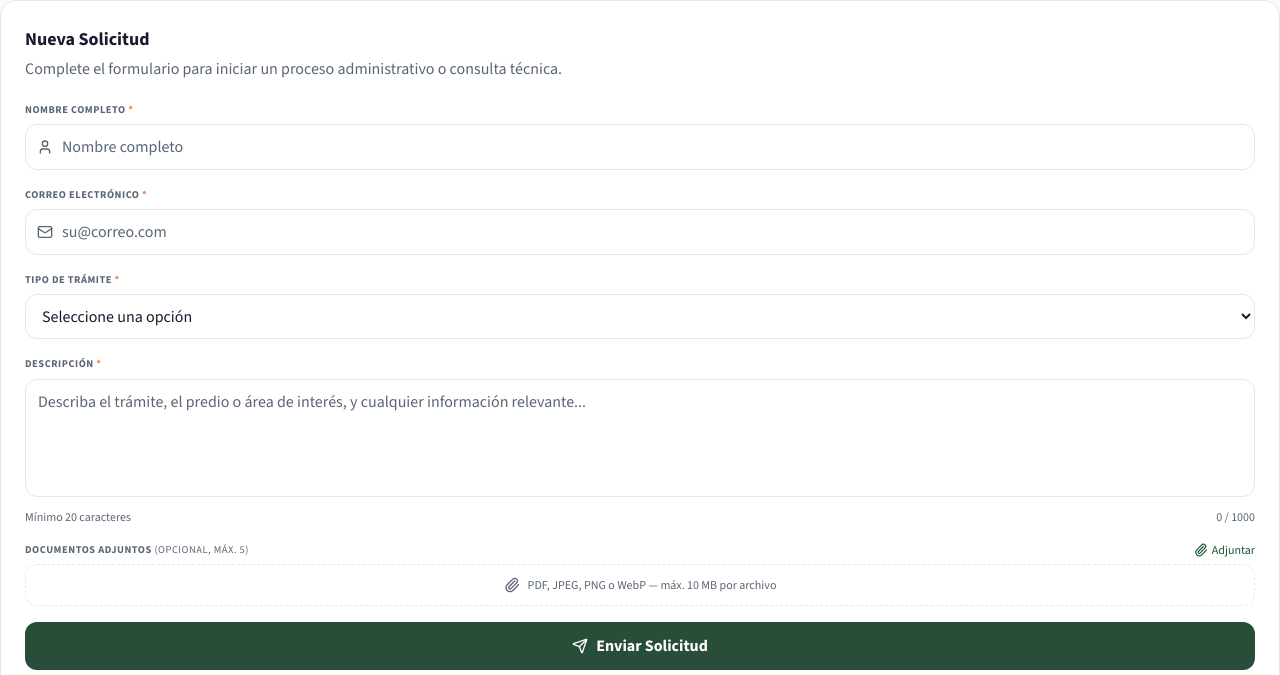
Scenario: NuevaSolicitudForm — envío › un 429 muestra el mensaje de límite diario, no el genérico
Step 1. Type "Ana Restrepo" into the field labelled "Nombre Completo *" → (640, 147), box [25, 124, 1255, 170]
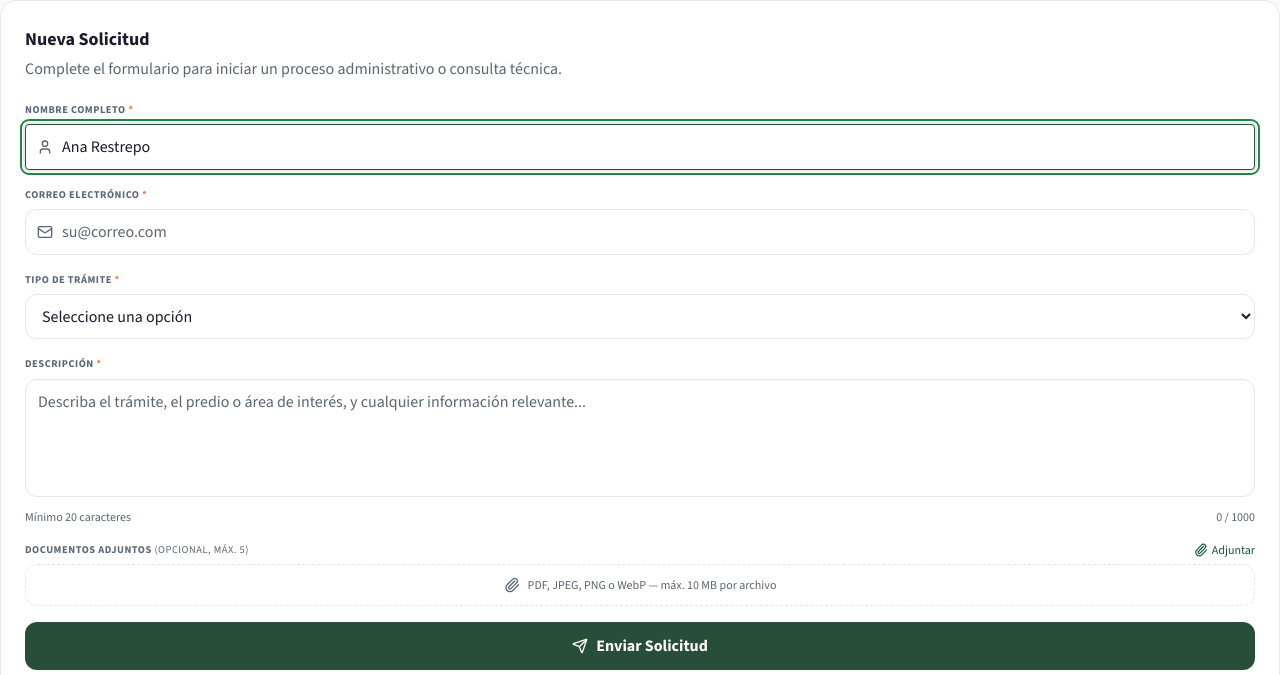
Step 2. Type "ana@iiap.gov.co" into the field labelled "Correo Electrónico *" → (640, 232), box [25, 209, 1255, 255]
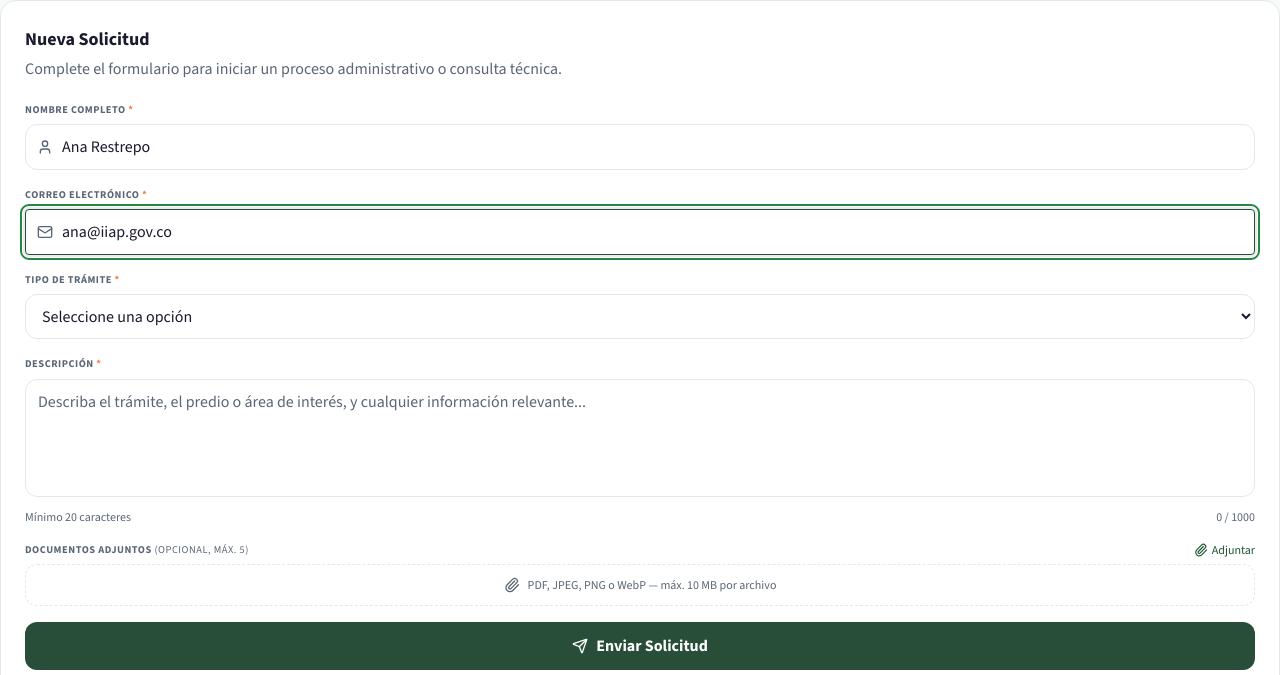
Step 3. Select "Certificado de Uso de Suelo" in the dropdown labelled "Tipo de Trámite *" → (640, 317), box [25, 294, 1255, 340]
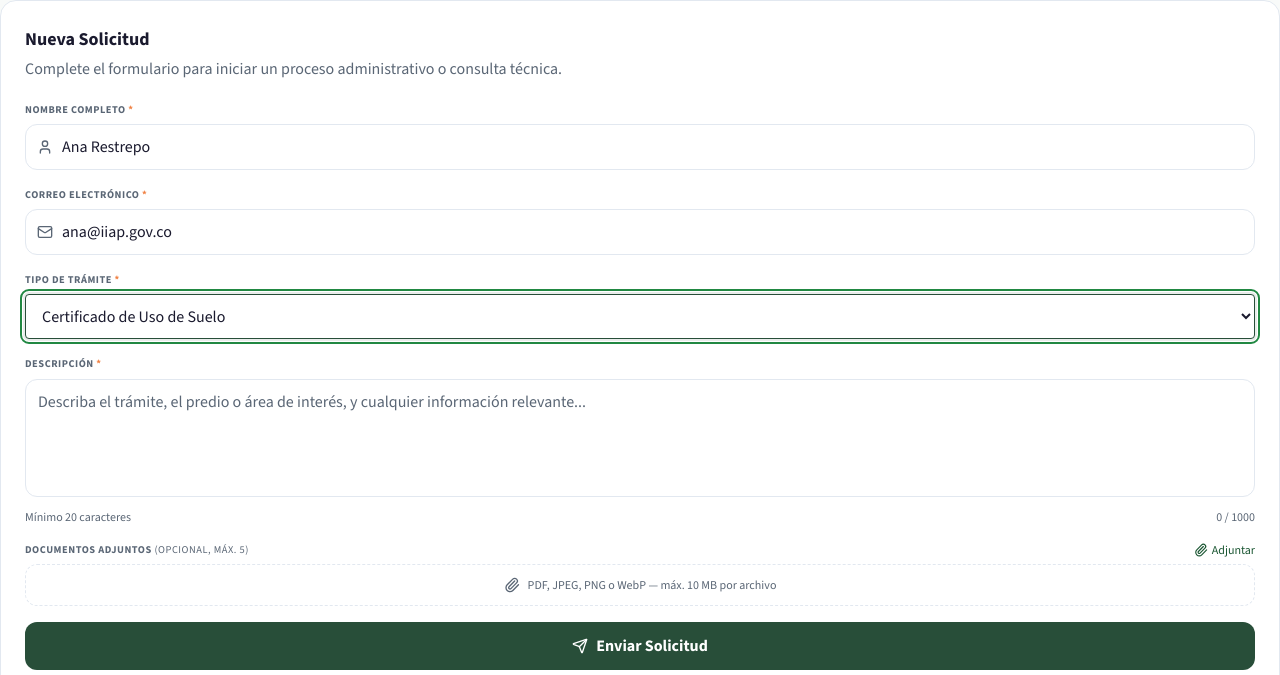
Step 4. Type "Solicito certificado de uso de suelo para el predio ubicado en la vereda X." into the text box labelled "Descripción *" → (640, 438), box [25, 379, 1255, 497]
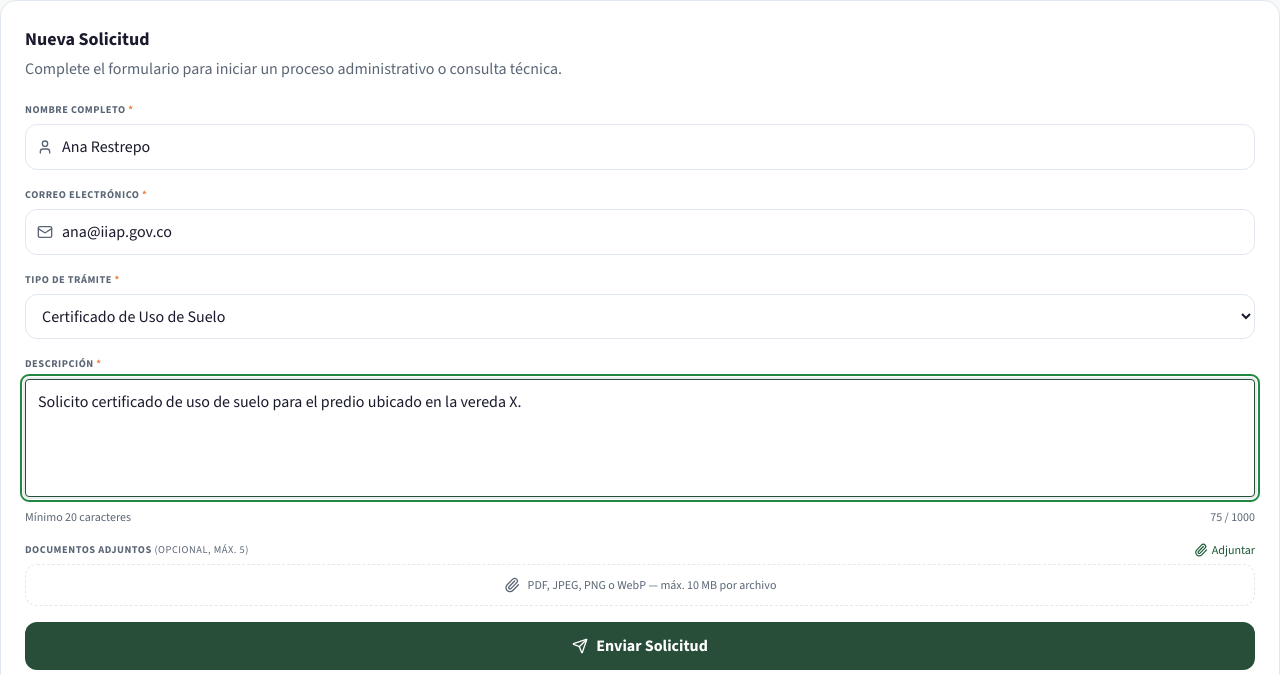
Step 5. Click the button "Enviar Solicitud" → (640, 646), box [25, 622, 1255, 670]
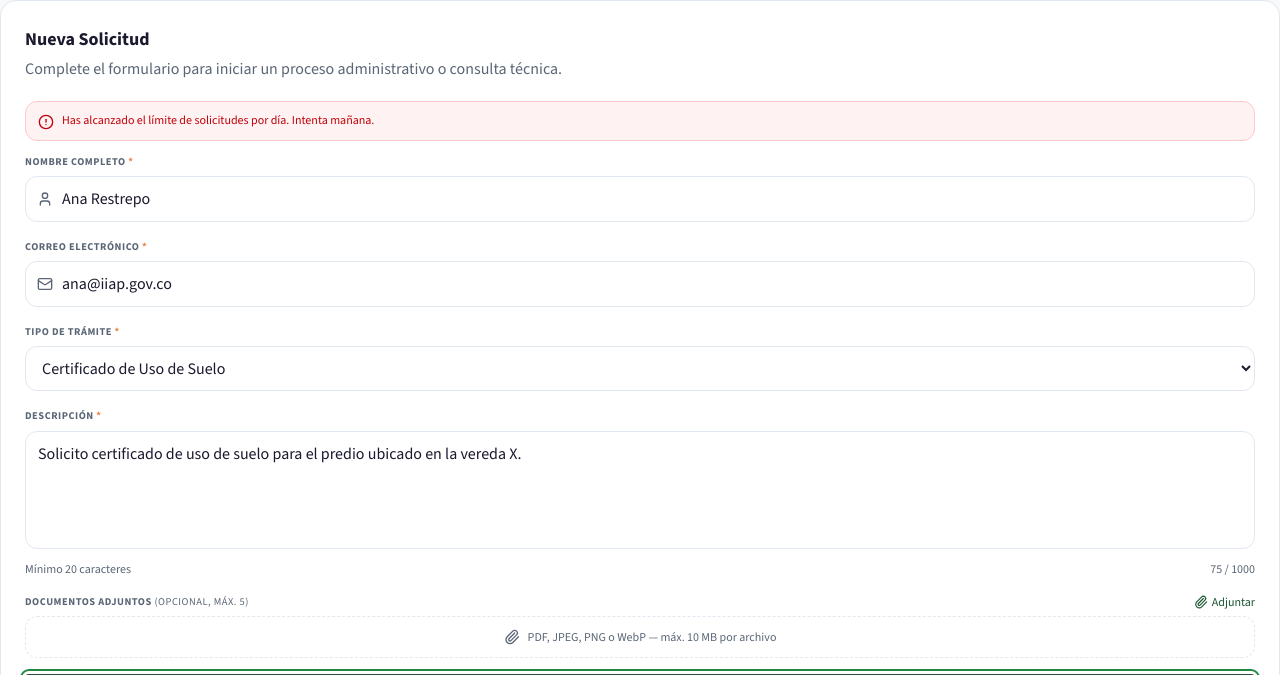
Expected: the text "Has alcanzado el límite de solicitudes por día. Intenta mañana." is shown, [62, 112, 374, 128]
